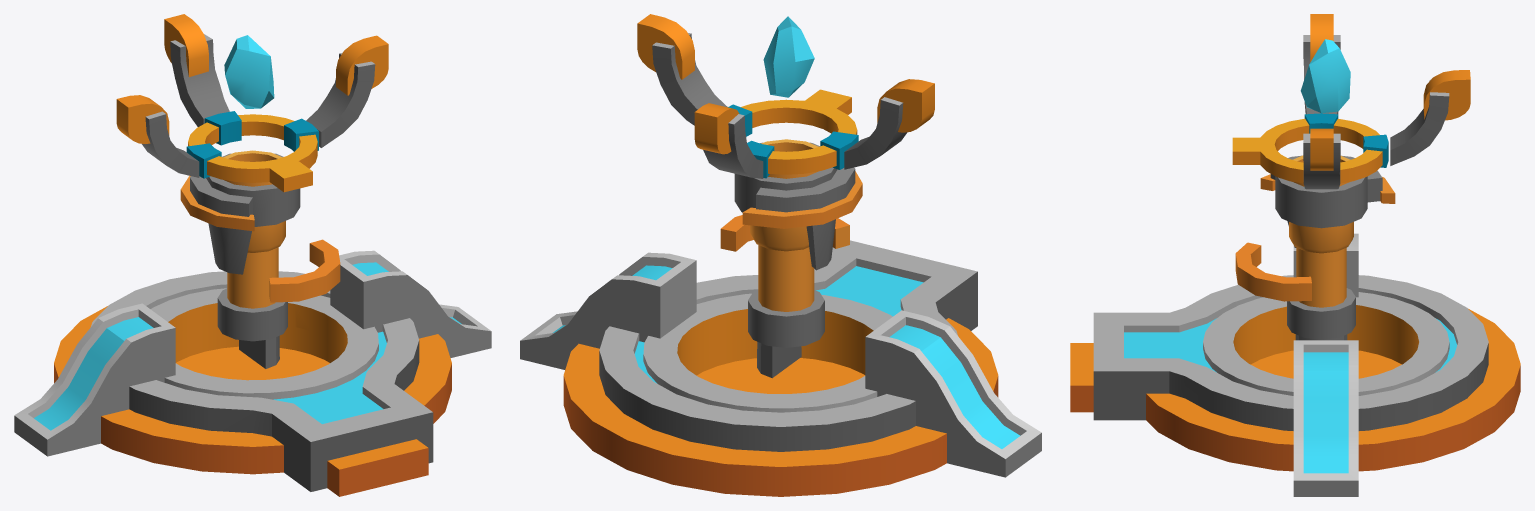
Rendered from Tp Tower Lv4.fbx.
3 renders of one model, left to right at view 1: azimuth 30°, elevation 25°; view 2: azimuth 150°, elevation 25°; view 3: azimuth 270°, elevation 25°, orthographic. The views are drawn at different scales.
Visible parts, largest first — view 1: Ice Tower Lv4, Boru Lv4, Crystal Lv4; view 2: Ice Tower Lv4, Boru Lv4, Crystal Lv4; view 3: Ice Tower Lv4, Boru Lv4, Crystal Lv4.
Boxes of the visible parts, x1,y1,x2,y2 form: Ice Tower Lv4: (14,14,491,496); Boru Lv4: (180,150,340,368); Crystal Lv4: (224,35,274,108); Ice Tower Lv4: (520,14,1041,496); Boru Lv4: (720,139,862,378); Crystal Lv4: (763,16,814,97); Ice Tower Lv4: (1070,14,1520,496); Boru Lv4: (1235,155,1395,340); Crystal Lv4: (1300,39,1350,113).
Bounding box in the file's own units: 433 × 333 × 389.
